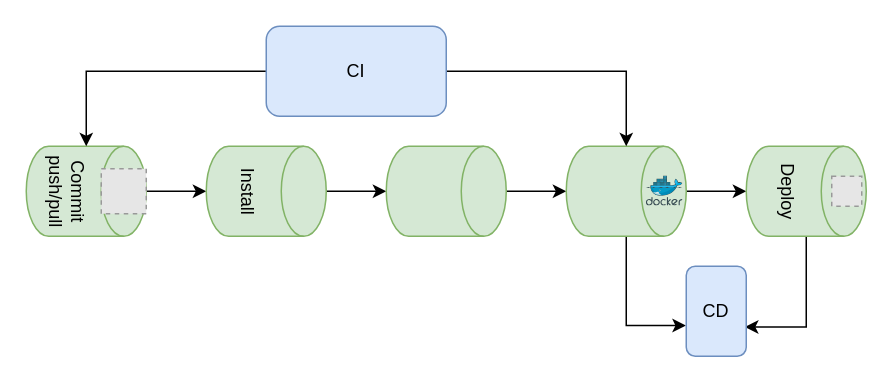
Image size: 893x383. Some labels were removed from this diagram. Grey dashed boxes stand in for pictures. Each missing label, with the box of its shape:
Build: (565, 145, 686, 236)
Test: (385, 145, 506, 236)
